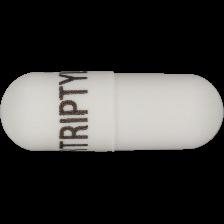0591-5788: (0, 0, 224, 224)
